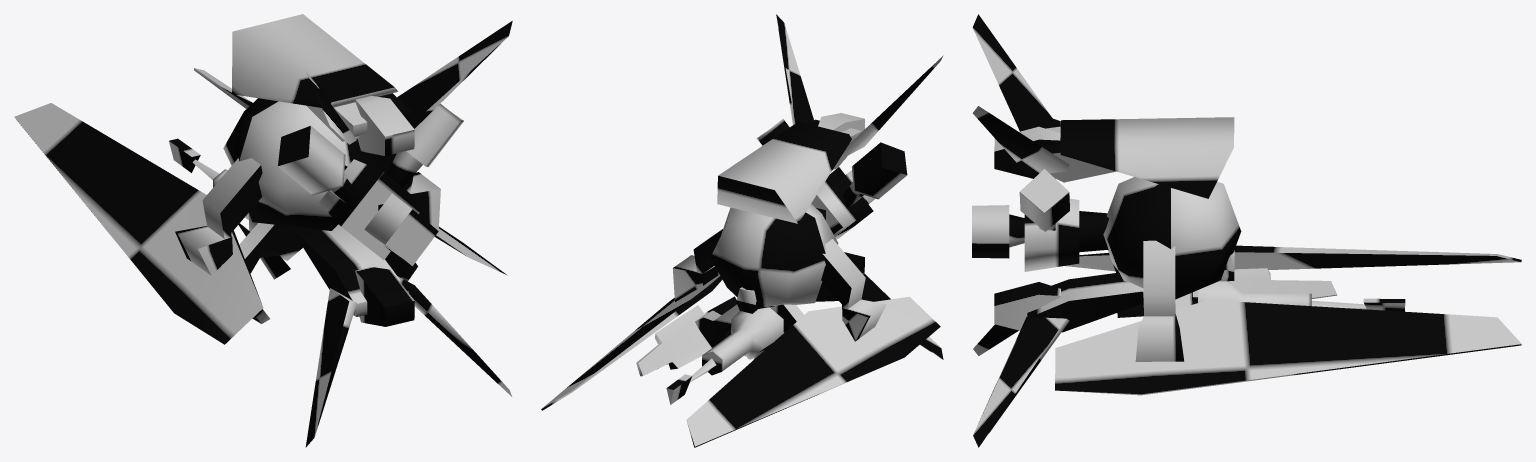
Rendered from pet_5.obj.
The picture shows the model from 3 angles, left to right: view 1: azimuth 30°, elevation 25°; view 2: azimuth 150°, elevation 25°; view 3: azimuth 270°, elevation 25°; orthographic projection. The views are drawn at different scales.
Parts seen in each view (by area): view 1: main; view 2: main; view 3: main.
Boxes of the visible parts, x1,y1,x2,y2 form: main: [14, 14, 512, 447]; main: [541, 14, 943, 447]; main: [972, 14, 1521, 447].
Size of the model in its own units: 39.07 by 48.7 by 70.91.
Materials: 1 (1 with a texture image).
